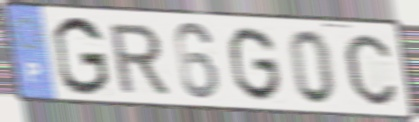0: (286, 26, 338, 107)
6: (173, 20, 222, 103)
C: (342, 31, 400, 108)
G: (50, 14, 112, 98), (227, 24, 284, 104)
R: (106, 22, 172, 95)
